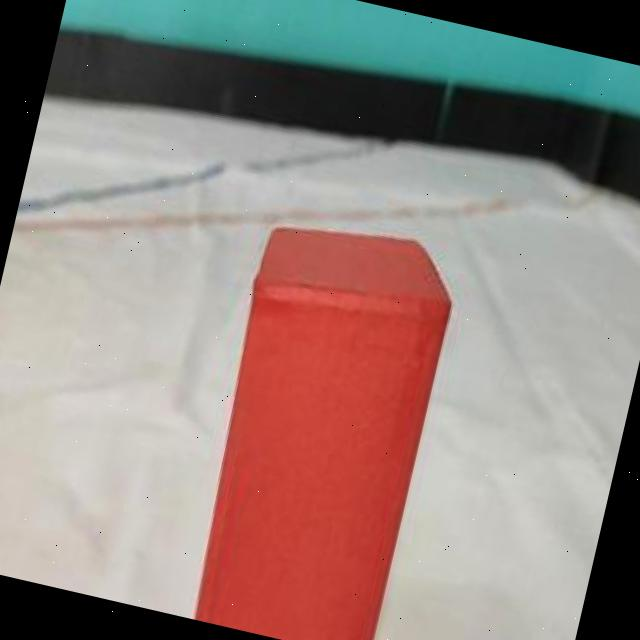redbox: (178, 203, 468, 640)
